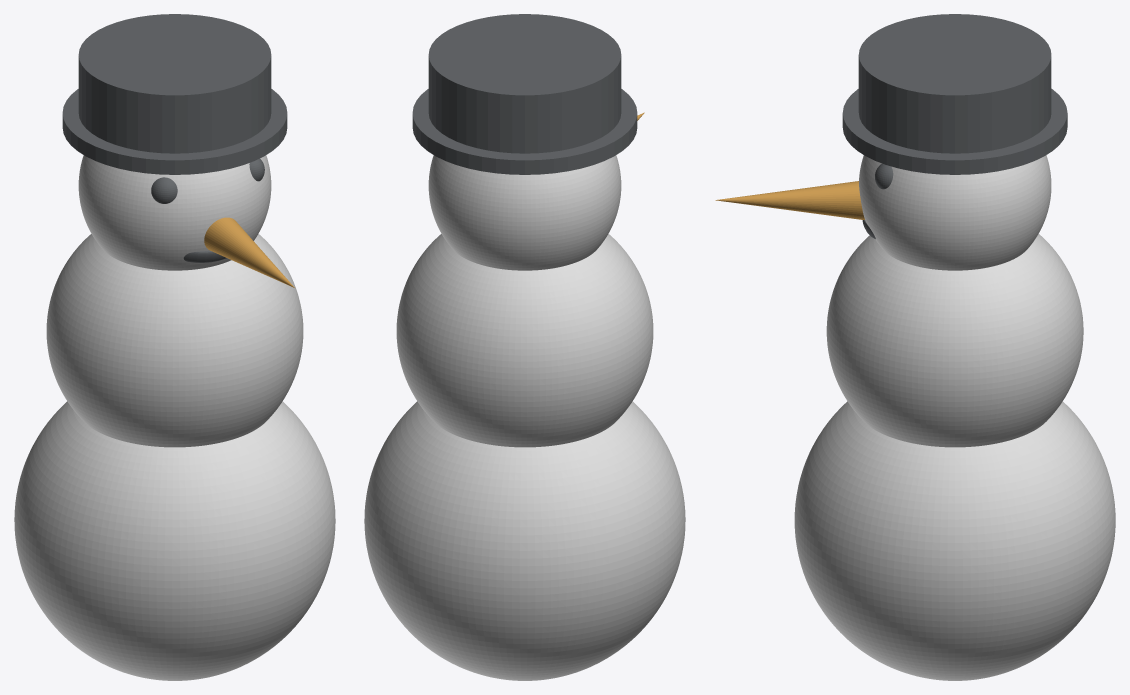
The model's file is snohg manner (3).glb.
3 renders of one model, left to right at view 1: azimuth 30°, elevation 25°; view 2: azimuth 150°, elevation 25°; view 3: azimuth 270°, elevation 25°, orthographic.
Parts seen in each view (by area): view 1: Mesh_Mesh_head_geo.001_lambert2SG.001; view 2: Mesh_Mesh_head_geo.001_lambert2SG.001; view 3: Mesh_Mesh_head_geo.001_lambert2SG.001.
Boxes of the visible parts, left/top/right/bottom form: Mesh_Mesh_head_geo.001_lambert2SG.001: left=14, top=14, right=335, bottom=680; Mesh_Mesh_head_geo.001_lambert2SG.001: left=364, top=14, right=685, bottom=680; Mesh_Mesh_head_geo.001_lambert2SG.001: left=715, top=14, right=1115, bottom=680.
Bounding box in the file's own units: 0.02 × 0.042 × 0.025.
